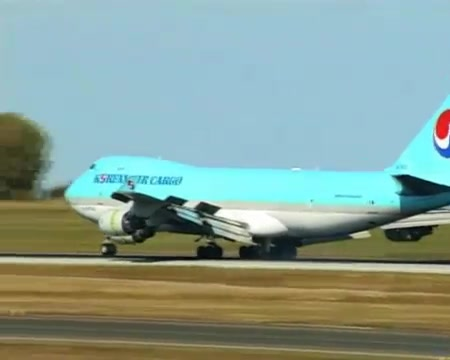aeroplane: (63, 100, 449, 261)
